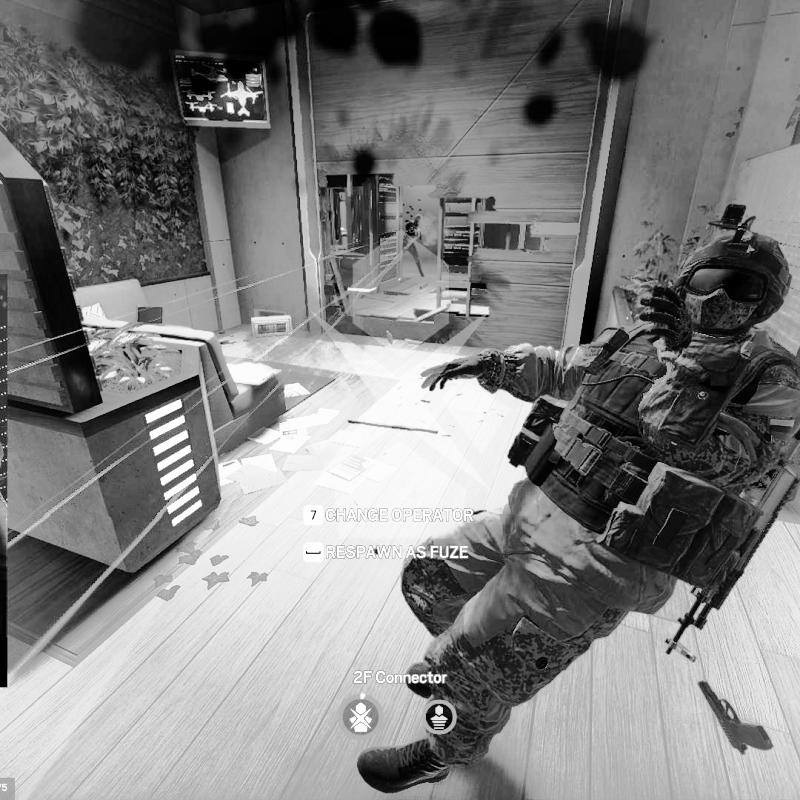Character: (358, 206, 800, 793), (402, 213, 426, 278)
Head: (672, 222, 794, 332), (413, 214, 422, 226)
